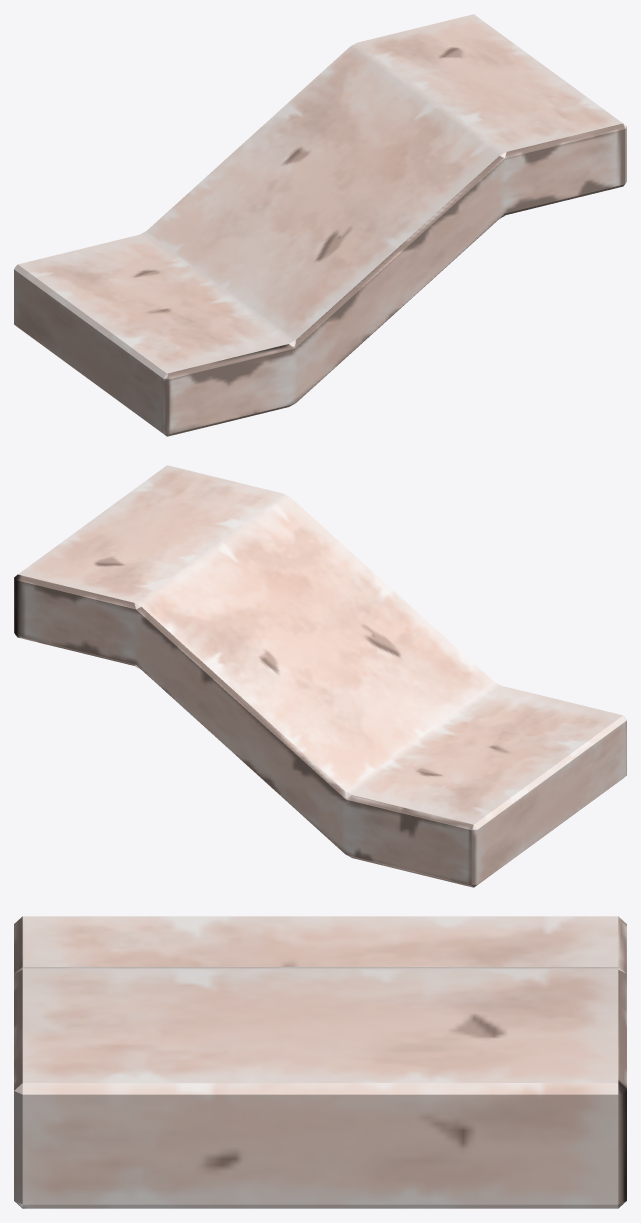
File: Z1_Modular_Platform_1.FBX
3 renders of one model, top to bottom at view 1: azimuth 30°, elevation 25°; view 2: azimuth 150°, elevation 25°; view 3: azimuth 270°, elevation 25°, orthographic. The views are drawn at different scales.
Parts seen in each view (by area): view 1: Z1_Modular_Platform_1; view 2: Z1_Modular_Platform_1; view 3: Z1_Modular_Platform_1.
Boxes of the visible parts, x1,y1,x2,y2 form: Z1_Modular_Platform_1: (14,14,626,436); Z1_Modular_Platform_1: (14,465,626,887); Z1_Modular_Platform_1: (14,916,626,1208).
Bounding box in the file's own units: 331 × 138 × 190.
